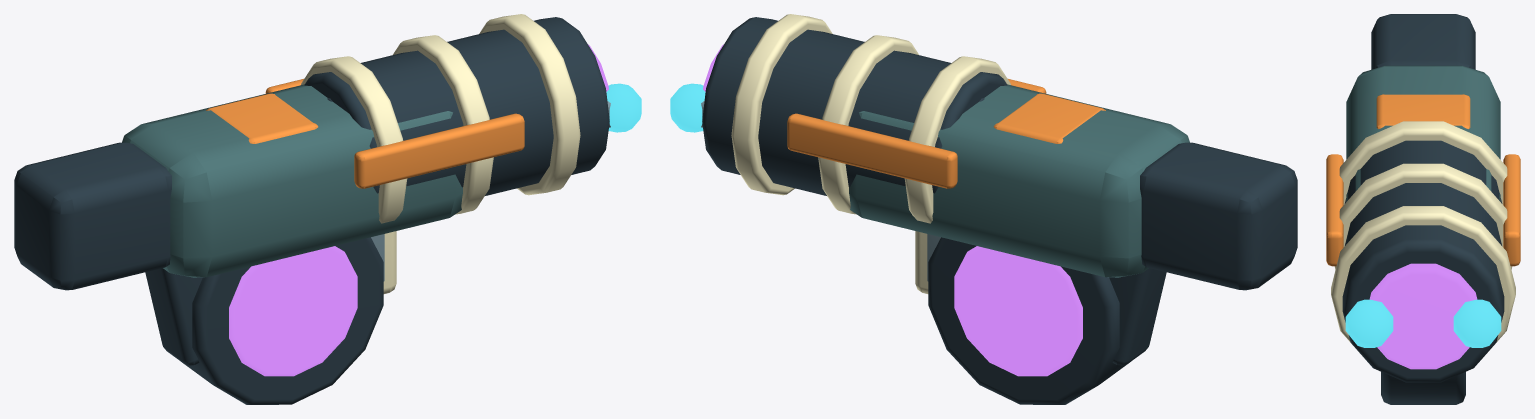
File: experimental_weapons-CjqayiKI.glb
3 views of the same model, side by side, from view 1: azimuth 30°, elevation 25°; view 2: azimuth 150°, elevation 25°; view 3: azimuth 270°, elevation 25° (orthographic).
Visible parts, largest first — view 1: plasma_cannon, arc_caster; view 2: plasma_cannon, arc_caster; view 3: plasma_cannon, arc_caster.
Part boxes in pixels (box(x1,y1,x2,y2)): plasma_cannon: box(14, 14, 609, 404); arc_caster: box(206, 83, 641, 281); plasma_cannon: box(702, 14, 1297, 404); arc_caster: box(670, 83, 1105, 281); plasma_cannon: box(1326, 14, 1520, 404); arc_caster: box(1345, 94, 1501, 347).
Bounding box in the file's own units: 1.74 × 0.884 × 0.505.
